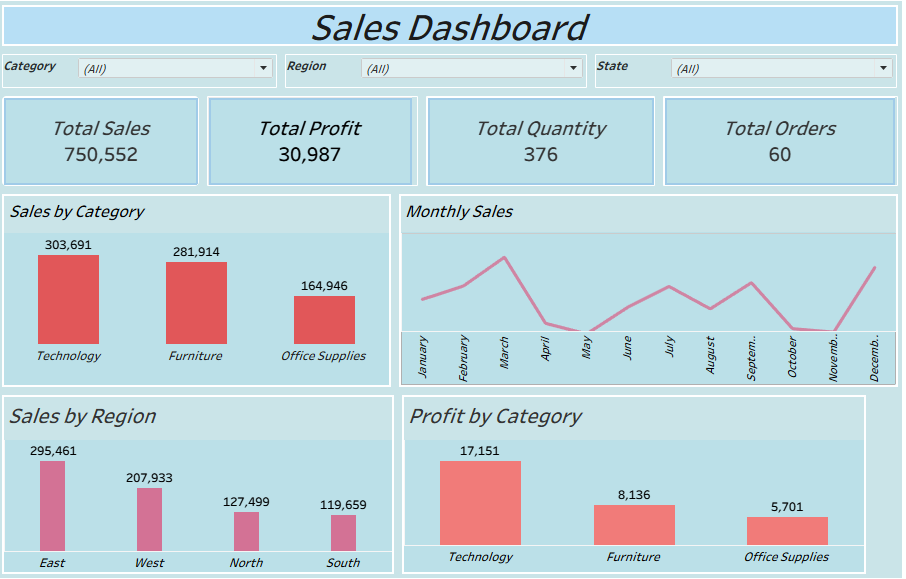

What the dashboard file says about the page in this screenshot:
{"tool":"tableau","page":{"name":"Dashboard 1","canvas":[1000,1000],"units":"permille","ordinal":0},"visuals":[{"type":"text","box":[8.7,13.5,982.6,82.6]},{"type":"filter","title":"Sheet 5","param":"[federated.0czvw901yixu381fsys7f08l41pg].[none:Category:nk]","box":[8.7,96.1,307.6,70.8]},{"type":"filter","title":"Sheet 5","param":"[federated.0czvw901yixu381fsys7f08l41pg].[none:Region:nk]","box":[316.3,96.1,337.5,70.8]},{"type":"filter","title":"Sheet 5","param":"[federated.0czvw901yixu381fsys7f08l41pg].[none:State:nk]","box":[653.8,96.1,337.5,70.8]},{"type":"worksheet","title":"Sheet 10","mark":"Automatic","box":[8.7,167,222.8,165.3]},{"type":"worksheet","title":"Sheet 2","mark":"Automatic","box":[231.5,167,238.1,165.3]},{"type":"worksheet","title":"Sheet 3","mark":"Automatic","box":[469.6,167,257.6,165.3]},{"type":"worksheet","title":"Sheet 4","mark":"Automatic","box":[727.2,167,264.1,165.3]},{"type":"worksheet","title":"Sheet 6","mark":"Automatic","rows":["Sales"],"cols":["Category"],"box":[8.7,332.2,431.5,338.9]},{"type":"worksheet","title":"Sheet 5","mark":"Line","rows":["Sales"],"cols":["Order Date"],"box":[440.2,332.2,551.1,338.9]},{"type":"worksheet","title":"Sheet 7","mark":"Automatic","rows":["Sales"],"cols":["Region"],"box":[8.7,671.2,434.8,315.4]},{"type":"worksheet","title":"Sheet 8","mark":"Bar","rows":["Profit"],"cols":["Category"],"box":[443.5,671.2,513,315.4]}]}

Visuals, with their boxes on the dashboard's canvas, which has no fixed pixel size, in thousandths of its width and height (x1, y1, x2, y2). These are canvas units, not pixel positions in the 906x579 screenshot, which may show the page scaled, cropped or inside an application window:
text: locate(9, 14, 991, 96)
"Sheet 5" filter: locate(9, 96, 316, 167)
"Sheet 5" filter: locate(316, 96, 654, 167)
"Sheet 5" filter: locate(654, 96, 991, 167)
"Sheet 10" worksheet: locate(9, 167, 232, 332)
"Sheet 2" worksheet: locate(232, 167, 470, 332)
"Sheet 3" worksheet: locate(470, 167, 727, 332)
"Sheet 4" worksheet: locate(727, 167, 991, 332)
"Sheet 6" worksheet: locate(9, 332, 440, 671)
"Sheet 5" worksheet (Line marks): locate(440, 332, 991, 671)
"Sheet 7" worksheet: locate(9, 671, 444, 987)
"Sheet 8" worksheet (Bar marks): locate(444, 671, 956, 987)
